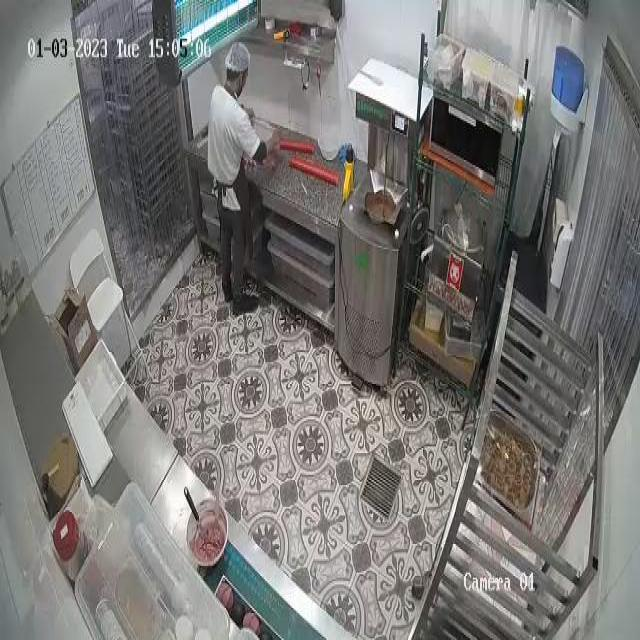hairnet: (223, 41, 250, 74)
